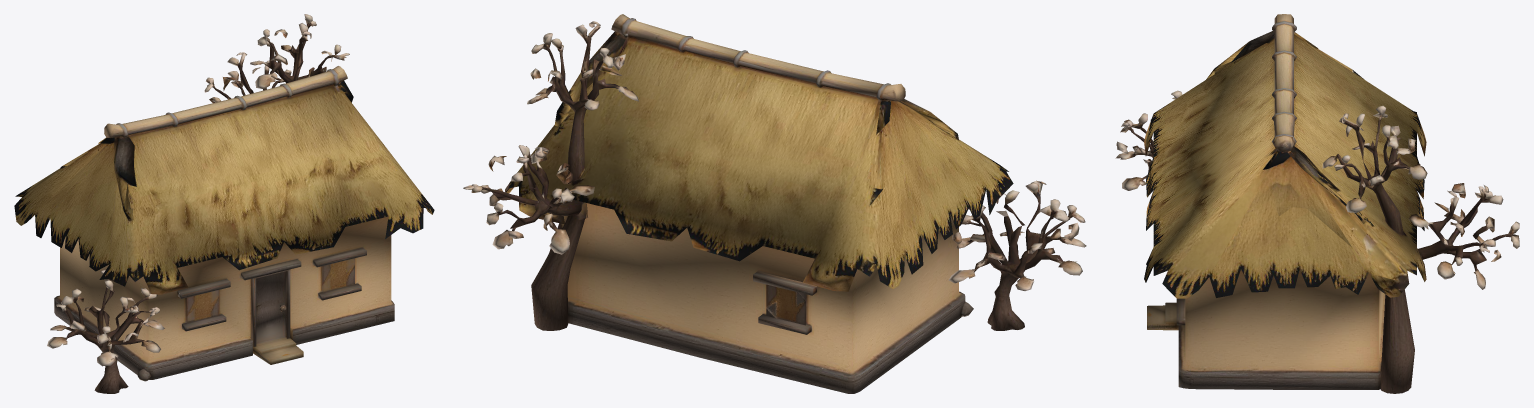
The model's file is daoxiang.glb.
3 views of the same model, side by side, from view 1: azimuth 30°, elevation 25°; view 2: azimuth 150°, elevation 25°; view 3: azimuth 270°, elevation 25° (orthographic). The views are drawn at different scales.
Parts seen in each view (by area): view 1: tripo_node_3e5770ed-7077-4a06-87cf-609c2610123d; view 2: tripo_node_3e5770ed-7077-4a06-87cf-609c2610123d; view 3: tripo_node_3e5770ed-7077-4a06-87cf-609c2610123d.
Part boxes in pixels (<box>): tripo_node_3e5770ed-7077-4a06-87cf-609c2610123d: <box>14,14,434,393</box>; tripo_node_3e5770ed-7077-4a06-87cf-609c2610123d: <box>463,14,1086,393</box>; tripo_node_3e5770ed-7077-4a06-87cf-609c2610123d: <box>1115,14,1519,393</box>.
Bounding box in the file's own units: 0.998 × 0.5996 × 0.8223.
1 material, 1 textured.
